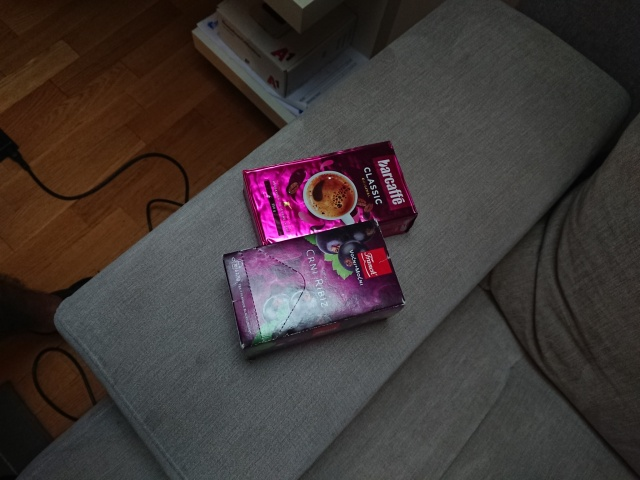Barcaffe Classic Original 225g: (239, 138, 420, 259)
Franck Black Currant Tea 60g: (219, 215, 408, 363)
